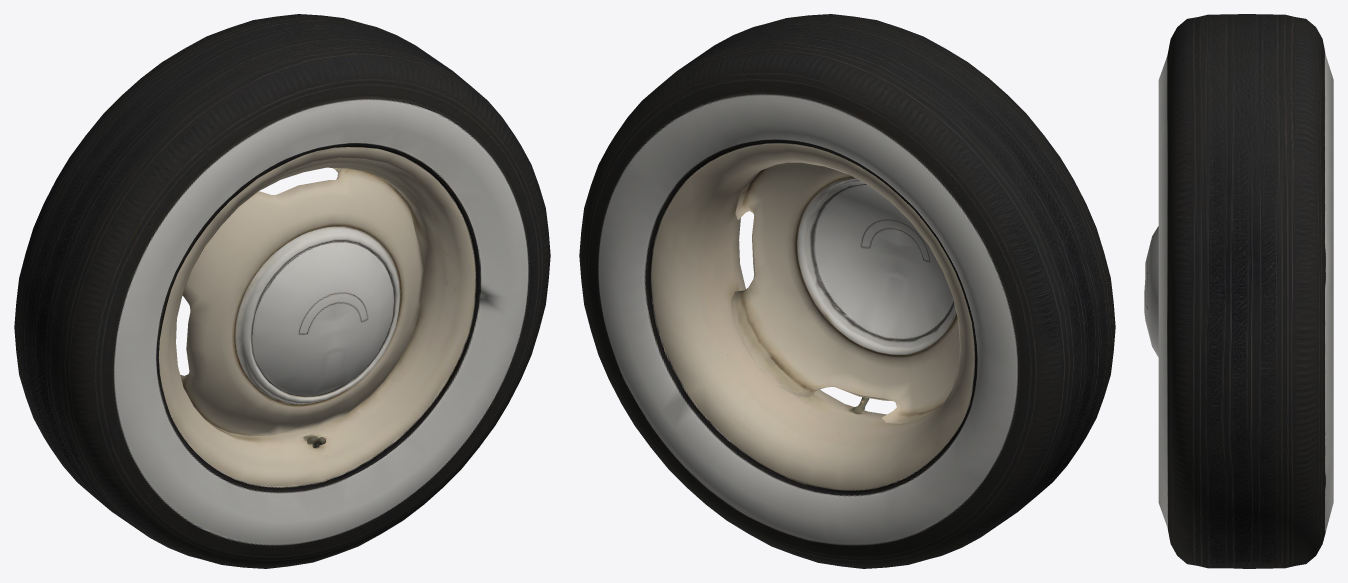
Rendered from original_glb.glb.
3 views of the same model, side by side, from view 1: azimuth 30°, elevation 25°; view 2: azimuth 150°, elevation 25°; view 3: azimuth 270°, elevation 25° (orthographic).
Parts seen in each view (by area): view 1: wheel; view 2: wheel; view 3: wheel.
Part boxes in pixels (x1,y1,x2,y2): wheel: (14,14,550,568); wheel: (579,14,1115,568); wheel: (1144,14,1333,568).
Bounding box in the file's own units: 0.998 × 0.998 × 0.3379.
1 material, 1 textured.
